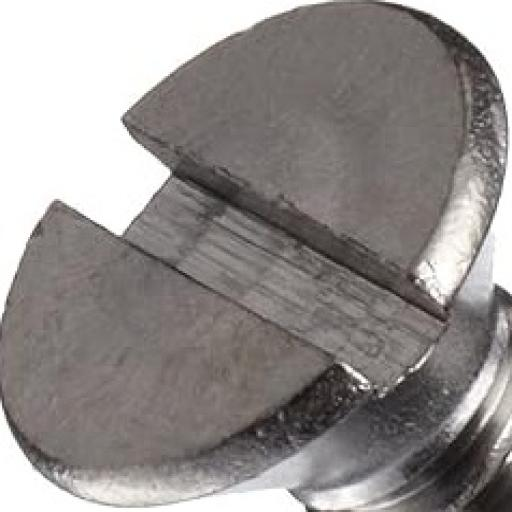Slotted: (0, 4, 509, 506)
